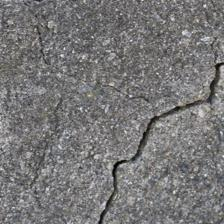Crack: (99, 65, 221, 221)
